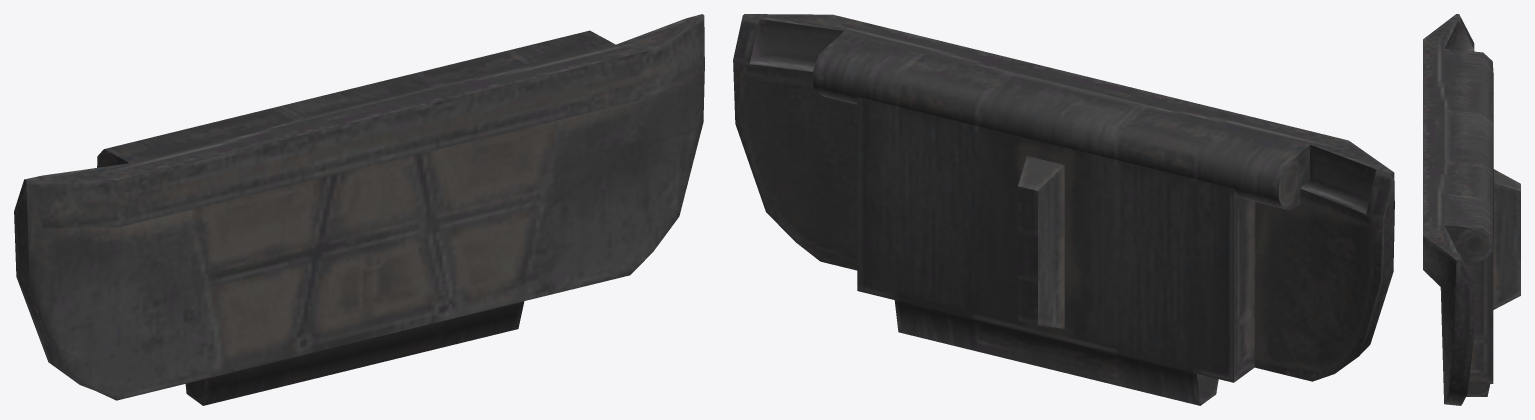
3 renders of one model, left to right at view 1: azimuth 30°, elevation 25°; view 2: azimuth 150°, elevation 25°; view 3: azimuth 270°, elevation 25°, orthographic. The views are drawn at different scales.
Parts seen in each view (by area): view 1: set_0_group_0; view 2: set_0_group_0; view 3: set_0_group_0.
Boxes of the visible parts, left/top/right/bottom form: set_0_group_0: left=14, top=14, right=704, bottom=405; set_0_group_0: left=733, top=14, right=1394, bottom=405; set_0_group_0: left=1423, top=14, right=1520, bottom=405.
Bounding box in the file's own units: 0.8411 × 0.323 × 0.1414.
Materials: 1 (1 with a texture image).
